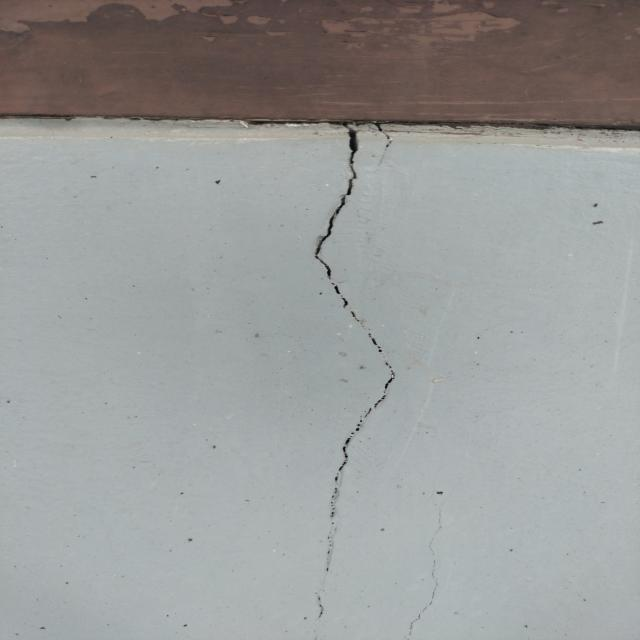Crack: (290, 135, 400, 629)
